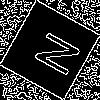N: (24, 25, 82, 79)
